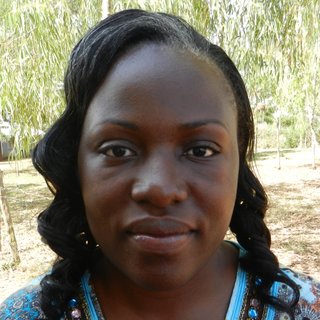eye: (91, 136, 143, 165), (176, 138, 227, 166)
